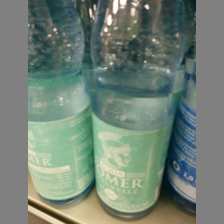water: (89, 1, 187, 221), (28, 1, 95, 204)
